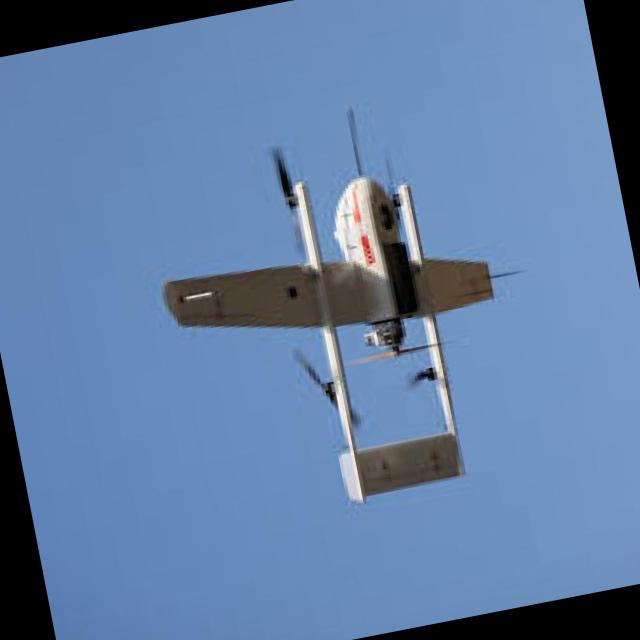UAV: (186, 2, 611, 538)
